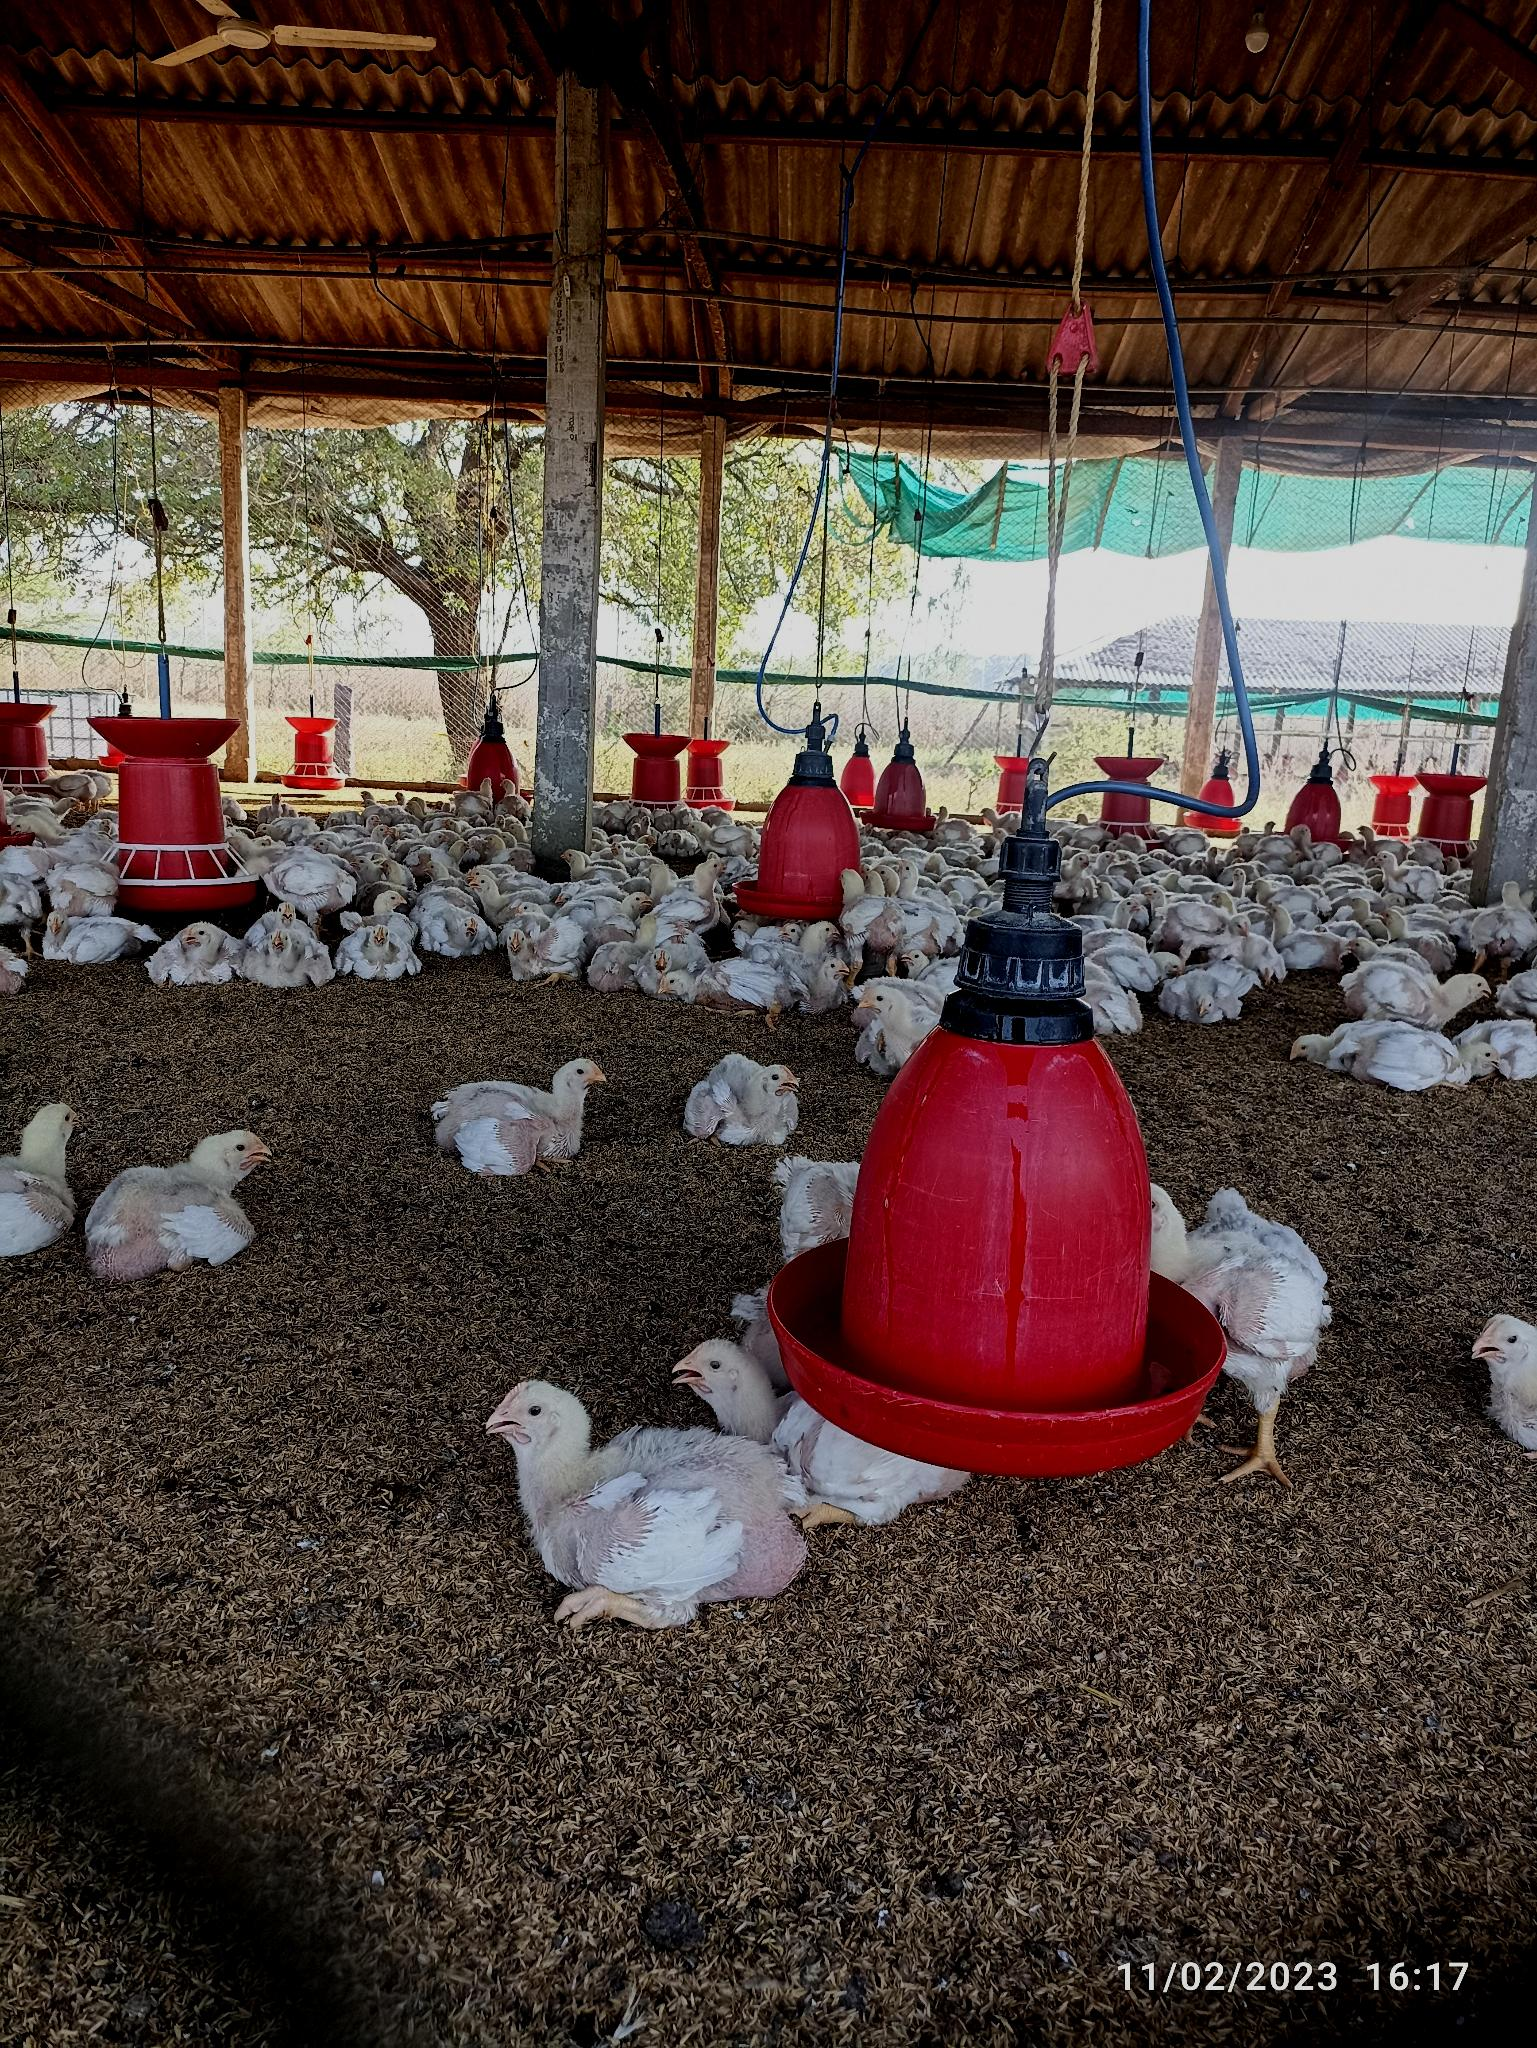Pollos: (484, 1373, 806, 1612), (87, 1130, 279, 1299), (431, 1049, 601, 1181), (1298, 1022, 1466, 1099), (689, 1052, 802, 1139), (234, 834, 355, 905), (1359, 965, 1492, 1014), (857, 981, 930, 1067), (153, 925, 236, 989), (655, 860, 727, 934), (504, 931, 581, 980), (785, 951, 843, 1014), (263, 930, 321, 989), (425, 905, 496, 954), (1171, 968, 1230, 1022), (358, 926, 417, 976), (652, 942, 689, 976)
